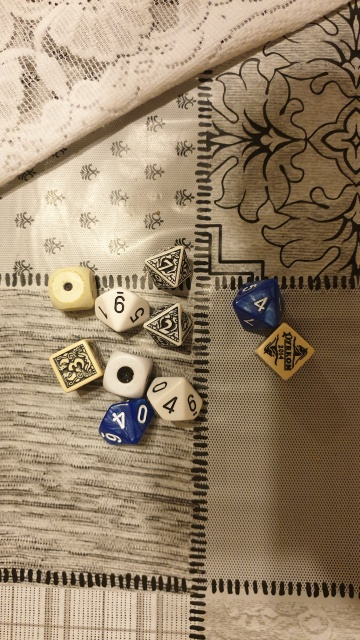d10-4: (227, 272, 290, 340), (92, 396, 156, 456), (145, 372, 205, 430)
d10-9: (90, 287, 151, 333)
d6-1: (43, 262, 97, 316), (100, 347, 153, 402)
d6p-1: (252, 320, 320, 386)
d6p-3: (45, 341, 102, 395)
d8p-2: (142, 300, 201, 352)
d8p-7: (142, 242, 197, 294)
